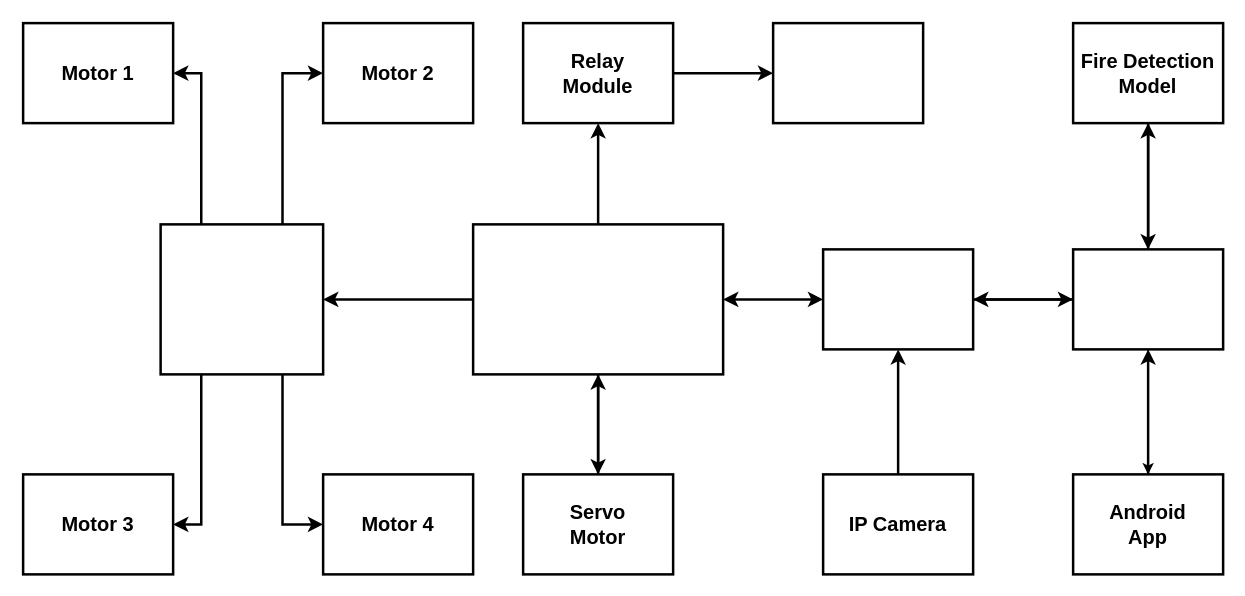
Some shapes in this 1245 by 596 pixel diagram are drawn without their labels. Each missing label, with the centre of its shape:
Cloud Server: point (1147, 299)
Control Unit: point (597, 298)
Internet Interface: point (897, 299)
Motor Driver: point (241, 298)
Spray Pump: point (847, 72)
